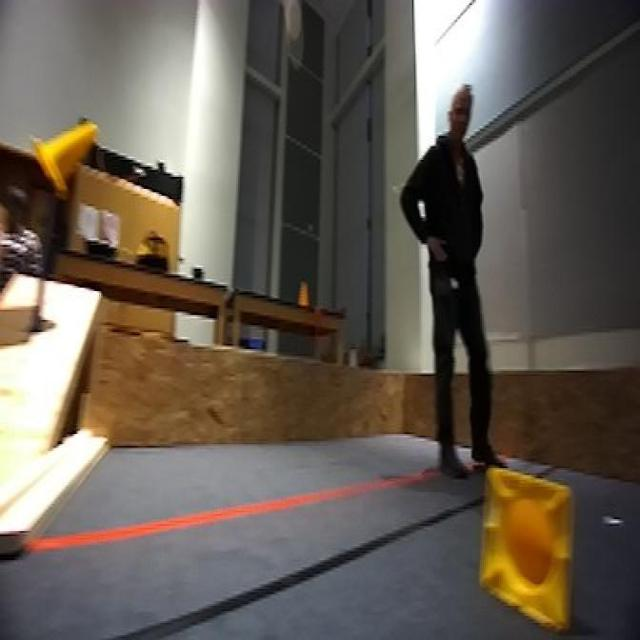frc_cone: (480, 463, 577, 630), (32, 118, 96, 192)
